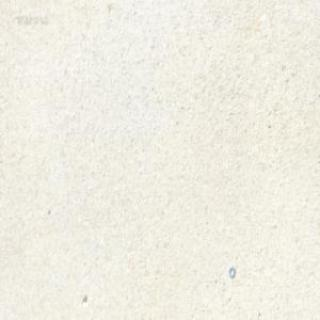Washertrack_idkeyframe: (228, 265, 234, 278)
